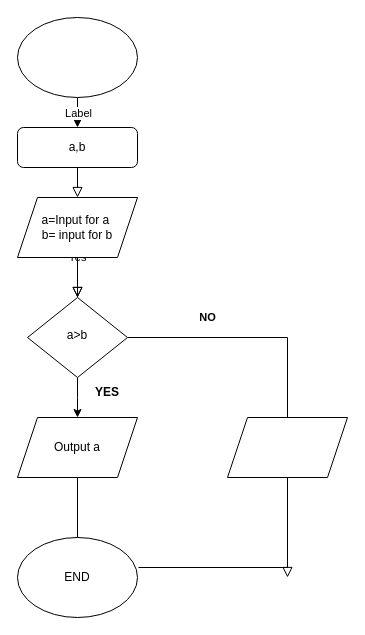
The diagram is 365 pixels wide and 635 high, and some of its shapes have lost their labels. The shapes that lost their labels are listed below. From the top down, each one's centre as x and y in pixels, then its label:
(x=77, y=57): START
(x=287, y=447): Output b
